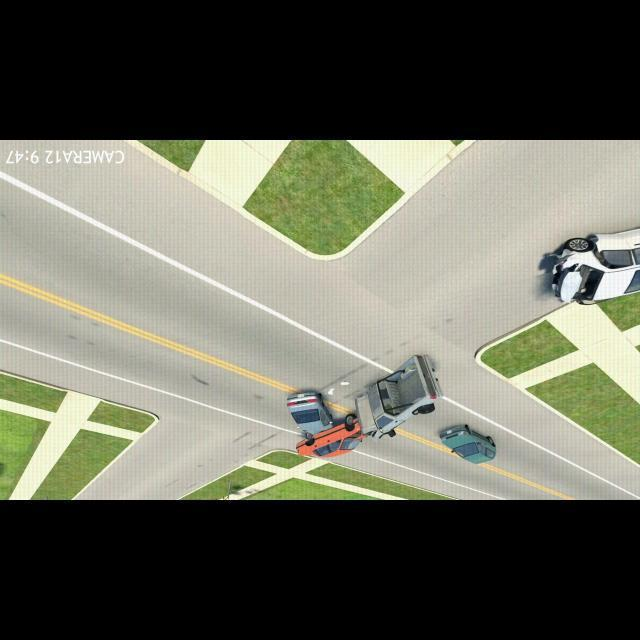severe: (352, 352, 446, 444), (284, 390, 376, 464)
